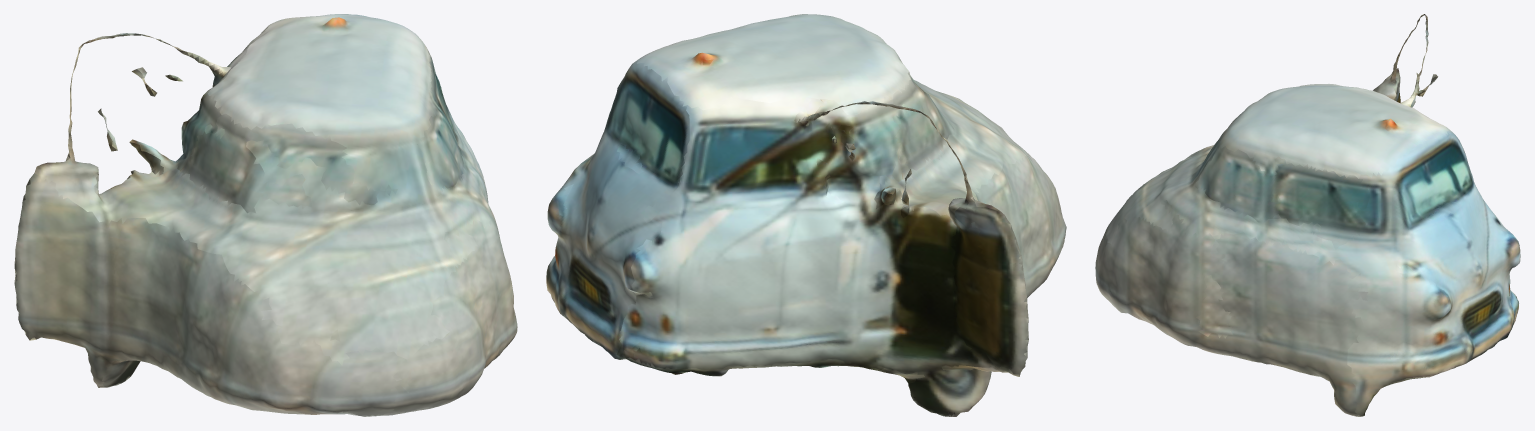
The model's file is IWantToMake-f61a.glb.
3 renders of one model, left to right at view 1: azimuth 30°, elevation 25°; view 2: azimuth 150°, elevation 25°; view 3: azimuth 270°, elevation 25°, orthographic. The views are drawn at different scales.
Visible parts, largest first — view 1: world; view 2: world; view 3: world.
Boxes of the visible parts, box(x1,y1,x2,y2) form: world: box(14, 14, 517, 416); world: box(546, 14, 1066, 416); world: box(1095, 14, 1520, 416).
Size of the model in its own units: 0.7581 by 0.5084 by 0.7316.
1 material, 1 textured.
